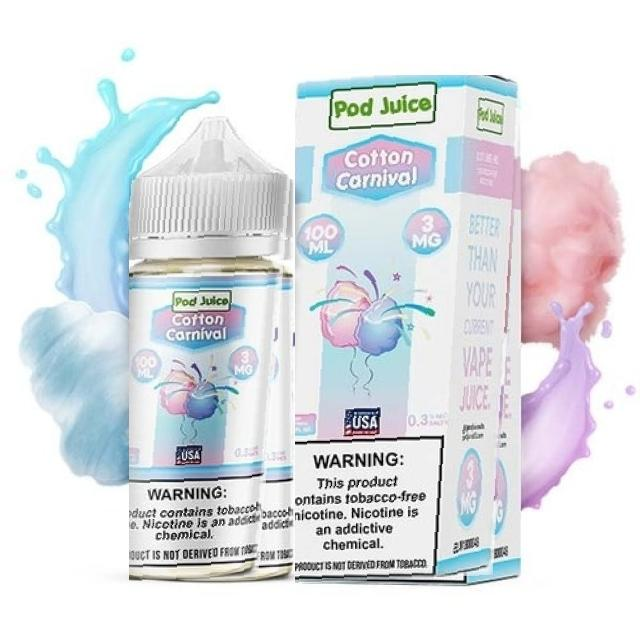Vapes: (296, 75, 524, 585), (129, 117, 296, 582)
